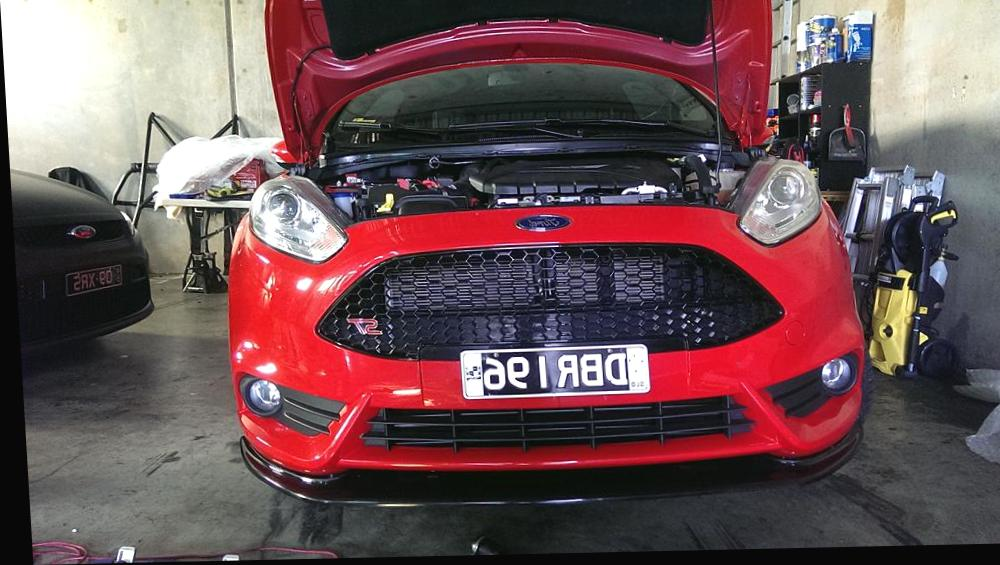License_Plate: (452, 340, 658, 411)
